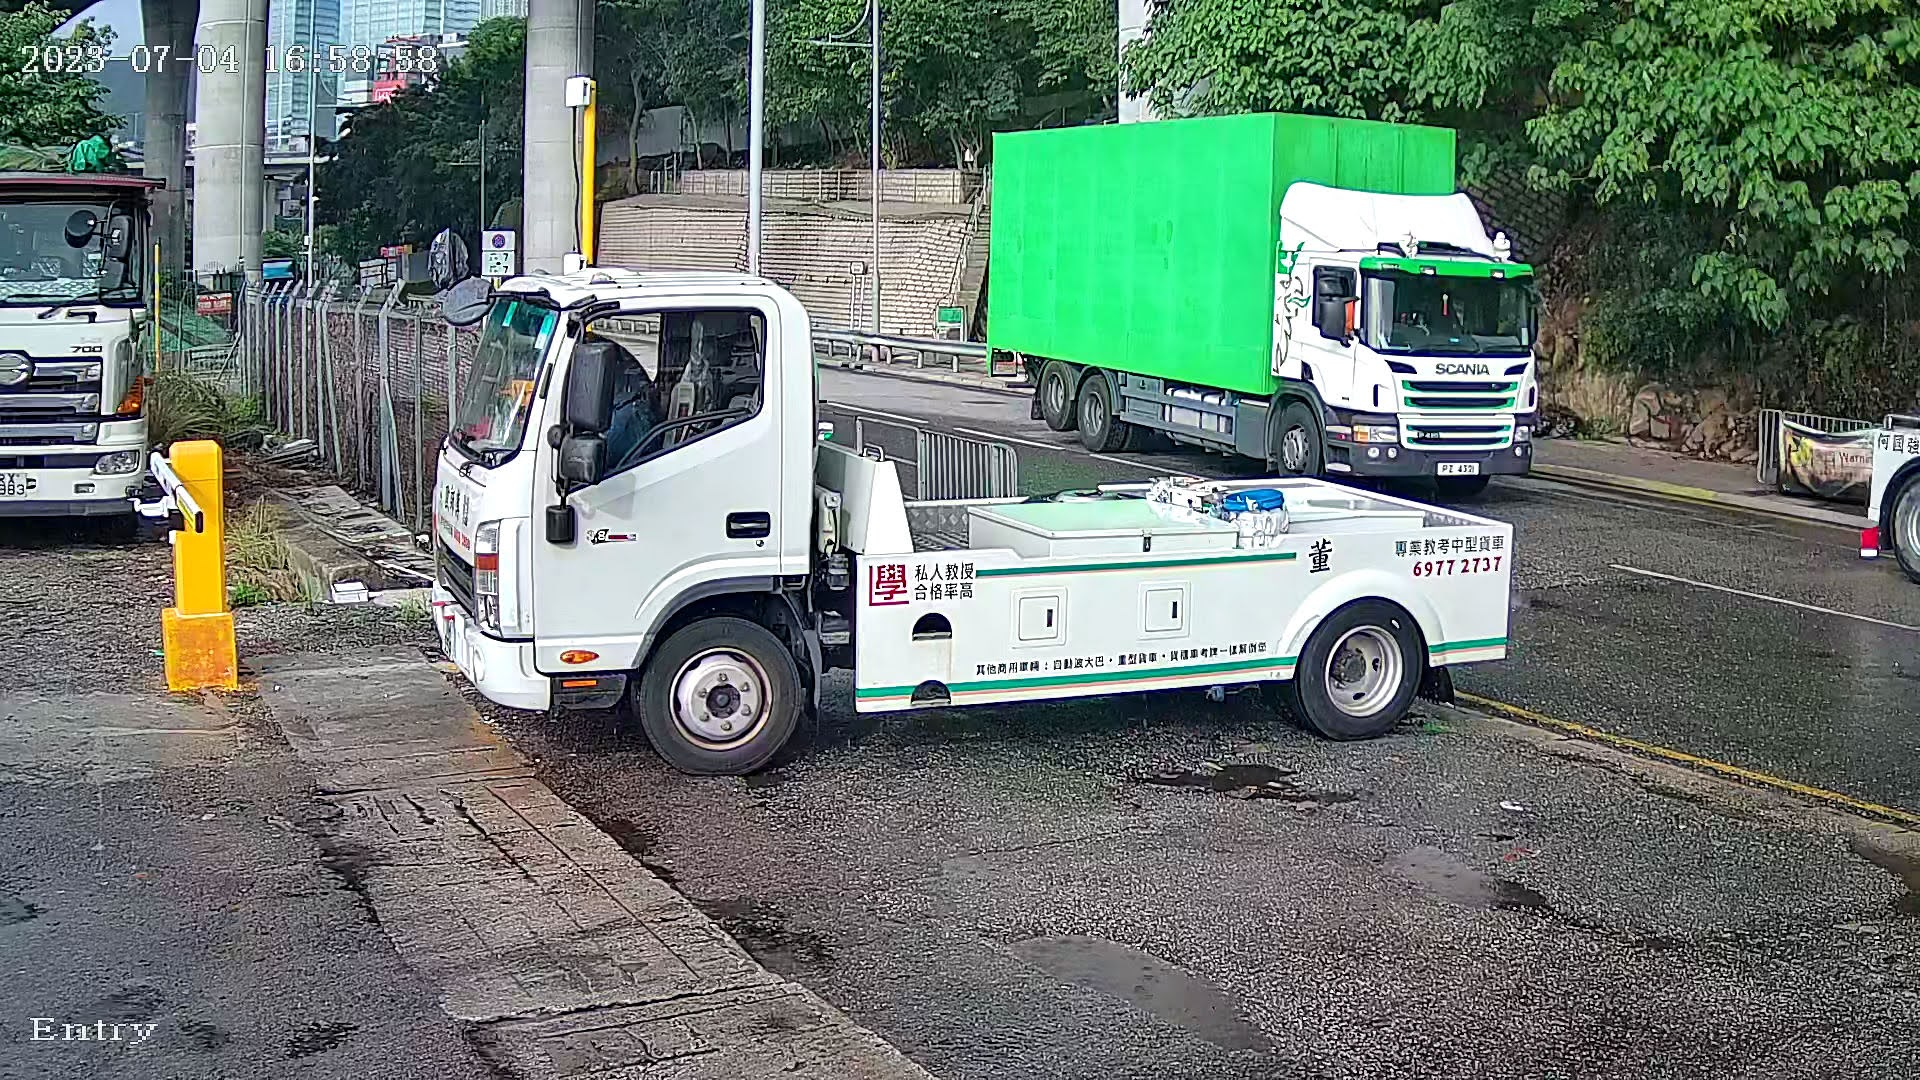truck_small: (417, 231, 1544, 793)
